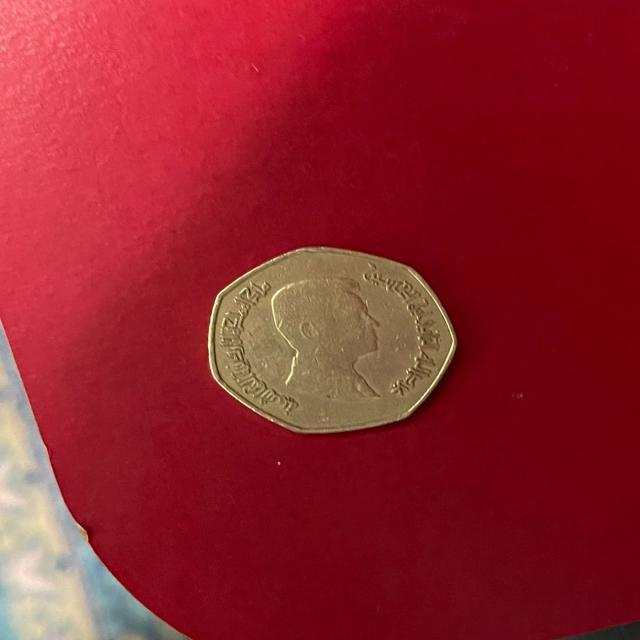25-coins: (206, 242, 456, 434)
